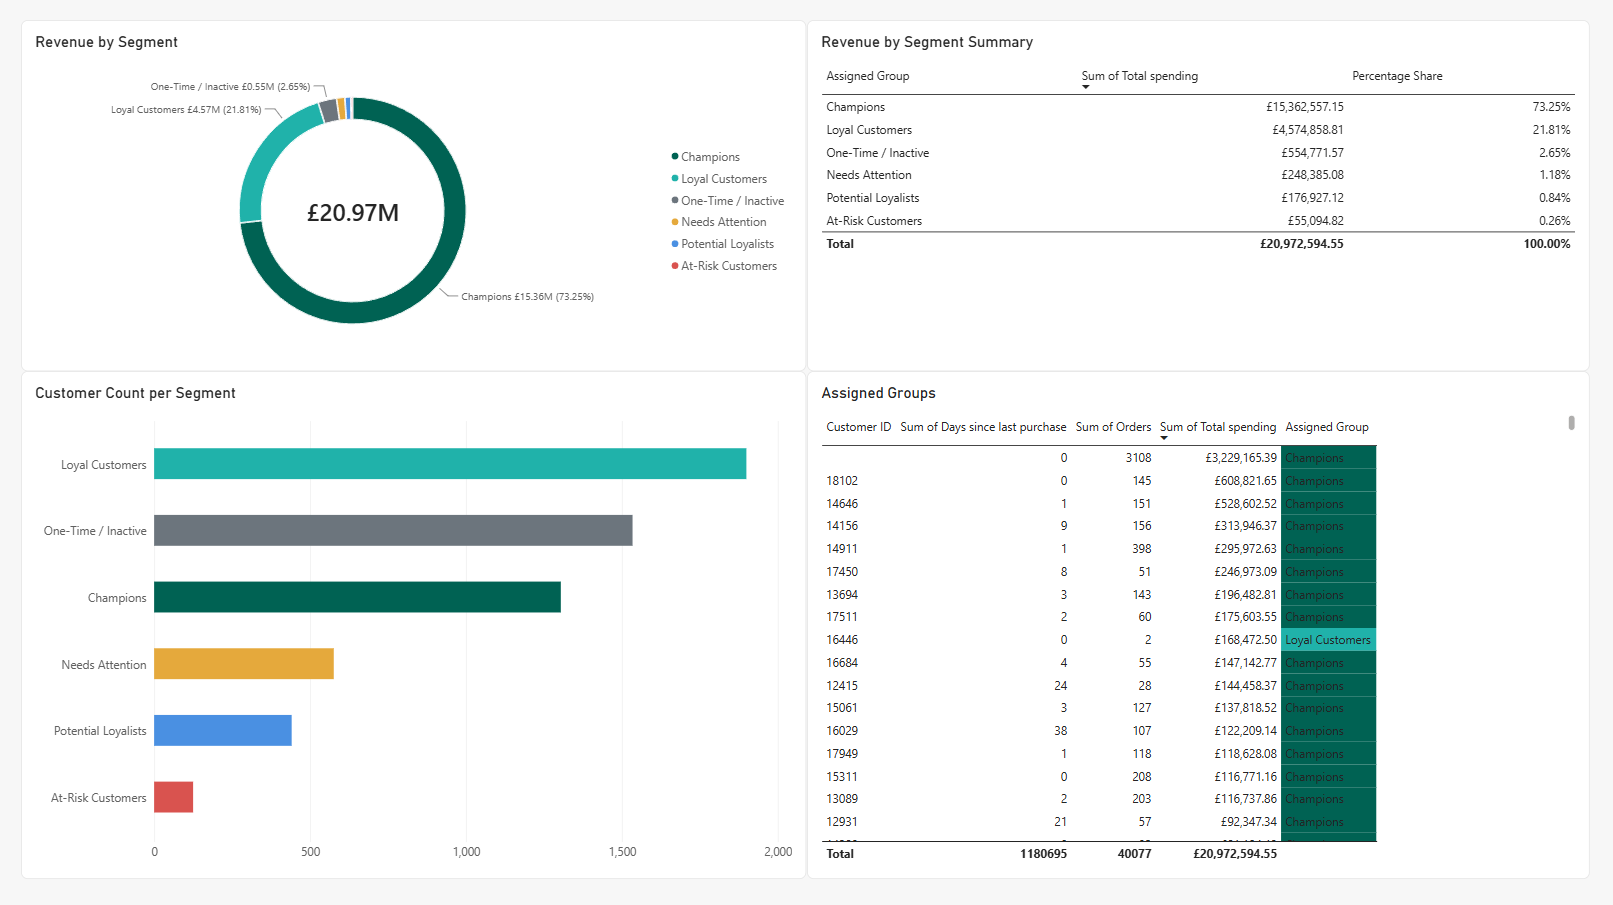

The page's visual inventory and layout, read from the dashboard file:
{"tool":"powerbi","page":{"name":"Customer Segmentation","canvas":[1920,1080],"ordinal":3},"visuals":[{"type":"donutChart","title":"Revenue by Segment ","fields":{"Category":["Segmentation.rfm_segment"],"Y":["Sum(Segmentation.monetary)"]},"box":[27.7,29.2,932.3,417.3],"z":0},{"type":"clusteredBarChart","title":"Customer Count per Segment","fields":{"Category":["Segmentation.rfm_segment"],"Y":["Count(Segmentation.customer_id)"]},"box":[27.7,446.4,932.3,602.6],"z":1000},{"type":"tableEx","title":"Assigned Groups","fields":{"Values":["Segmentation.customer_id","Sum(Segmentation.recency_days)","Sum(Segmentation.frequency)","Sum(Segmentation.monetary)","Segmentation.rfm_segment"]},"box":[960,446.4,929.4,602.6],"z":2000},{"type":"tableEx","title":"Revenue by Segment Summary","fields":{"Values":["Segmentation.Assigned Group","Sum(Segmentation.Total spending)","Divide(Sum(Segmentation.Total spending), ScopedEval(Sum(Segmentation.Total spending), []))"]},"box":[960,29.2,929.4,417.3],"z":3000}]}

Visuals, with their boxes in screenshot pixels (x1, y1, x2, y2), scaled from the page's 1920x1080 canvas onto the 1613x905 screenshot:
"Revenue by Segment " donutChart: 23 24 806 374
"Customer Count per Segment" clusteredBarChart: 23 374 806 879
"Assigned Groups" tableEx: 806 374 1587 879
"Revenue by Segment Summary" tableEx: 806 24 1587 374
